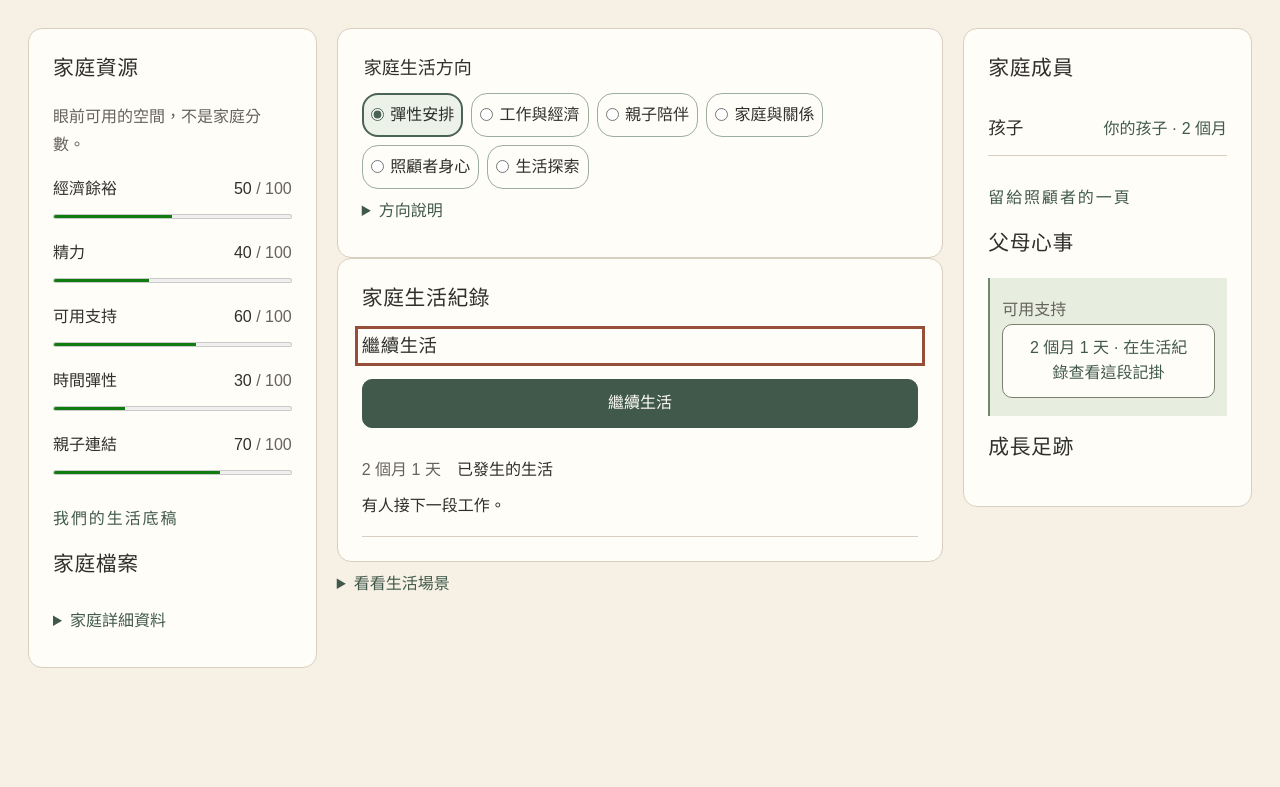
Test: keeps direction explanations in an optional disclosure without advancing
Click the heading "方向說明": (411, 210) [379, 202, 443, 218]
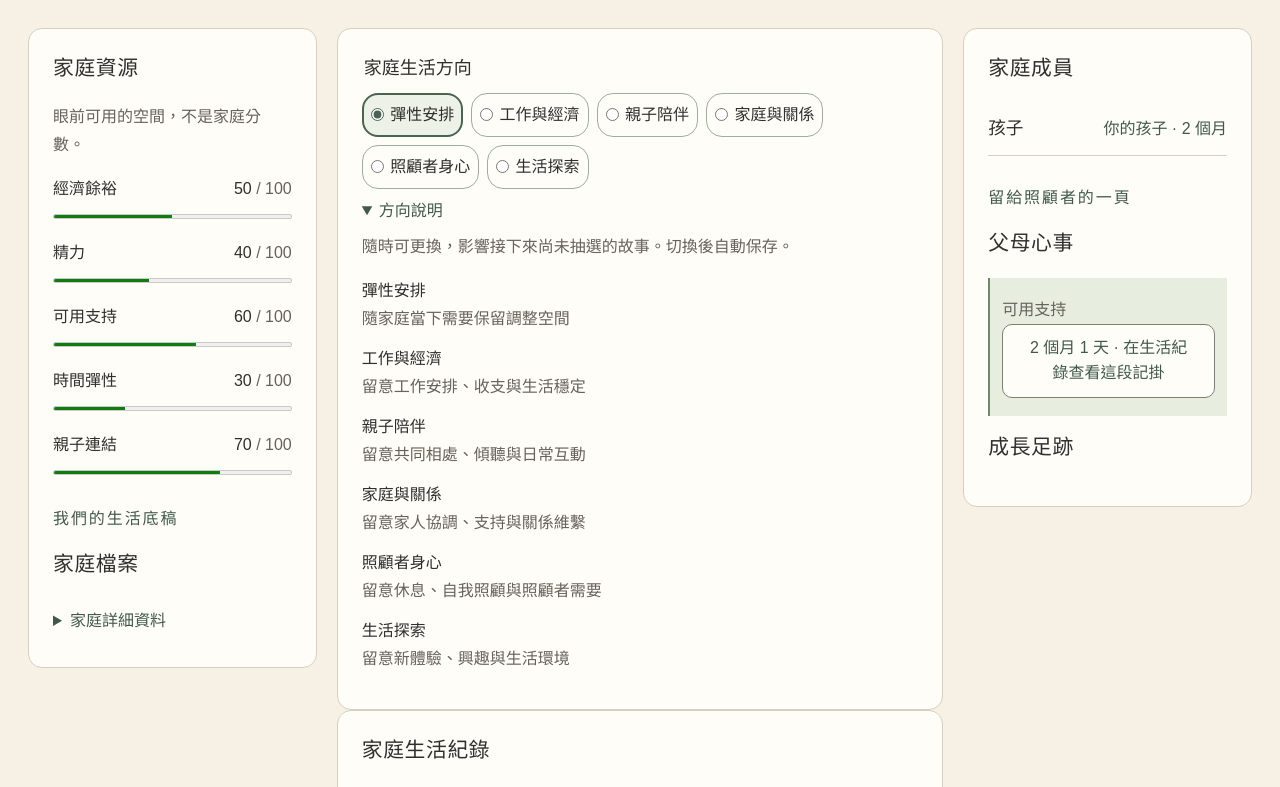
Result: the text "隨家庭當下需要保留調整空間" is shown at [362, 310, 570, 326]
Result: the text "留意工作安排、收支與生活穩定" is shown at [362, 378, 586, 394]
Result: the text "留意共同相處、傾聽與日常互動" is shown at [362, 446, 586, 462]
